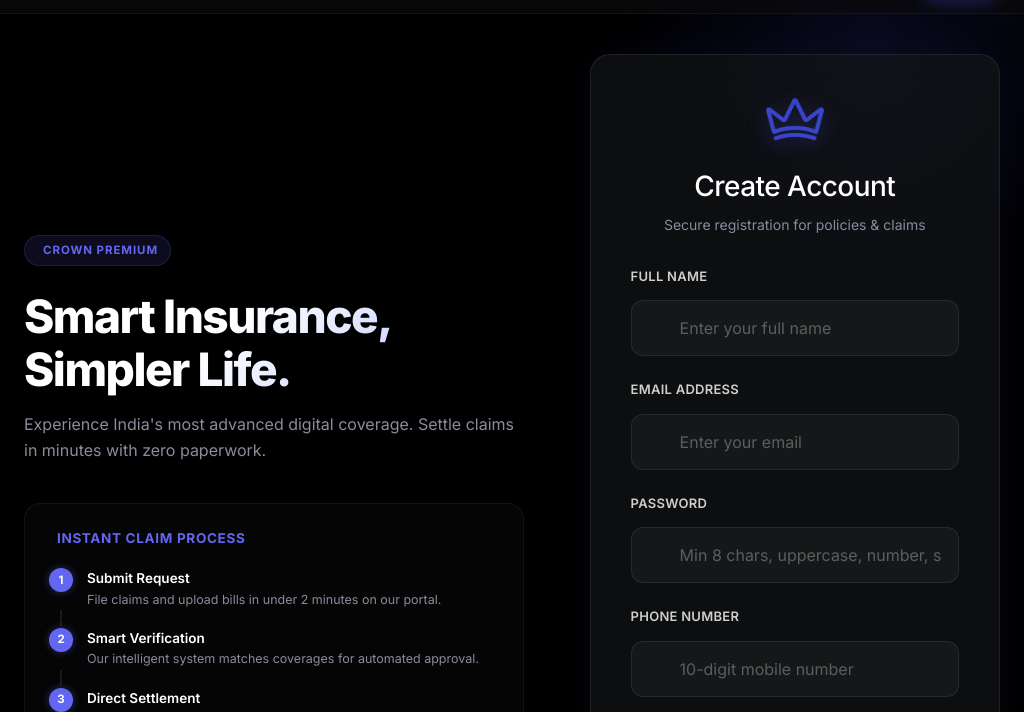
Test: Register Page › shows email validation error
The image size is (1024, 712).
Type "Test User" into the field with placeholder "Enter your full name" at [795, 328], box top-left (631, 300), bottom-right (959, 356)
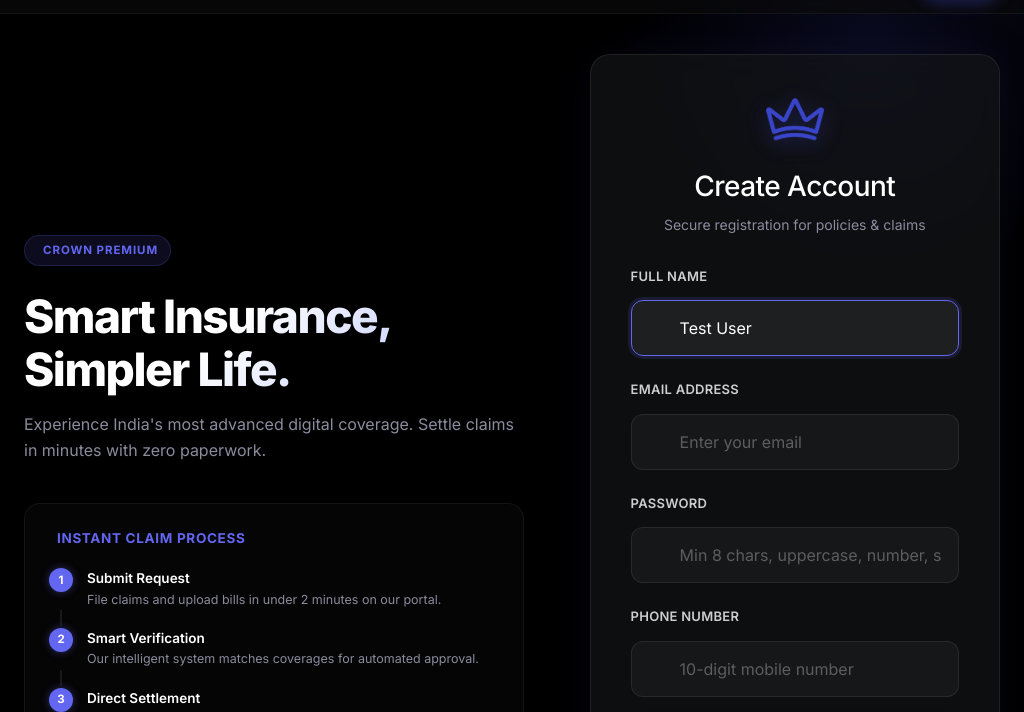
Type "bademail" into the field with placeholder "Enter your email" at [795, 442], box top-left (631, 414), bottom-right (959, 470)
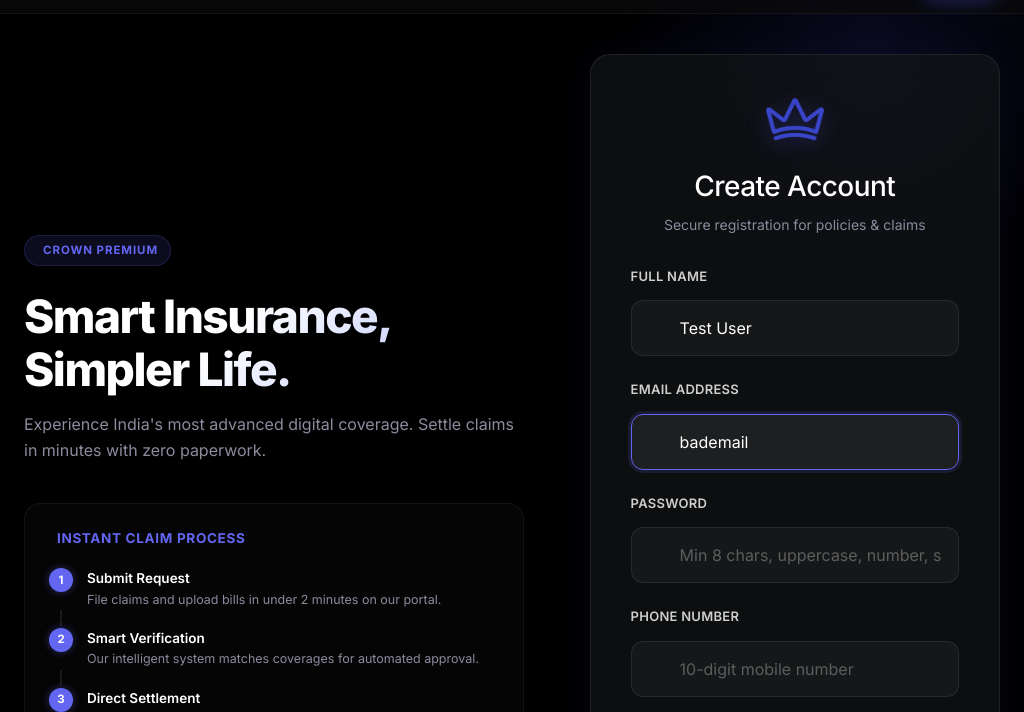
Type "ValidPass@123" into the password field with placeholder "Min 8 chars, uppercase, number, special char" at [795, 555], box top-left (631, 527), bottom-right (959, 583)
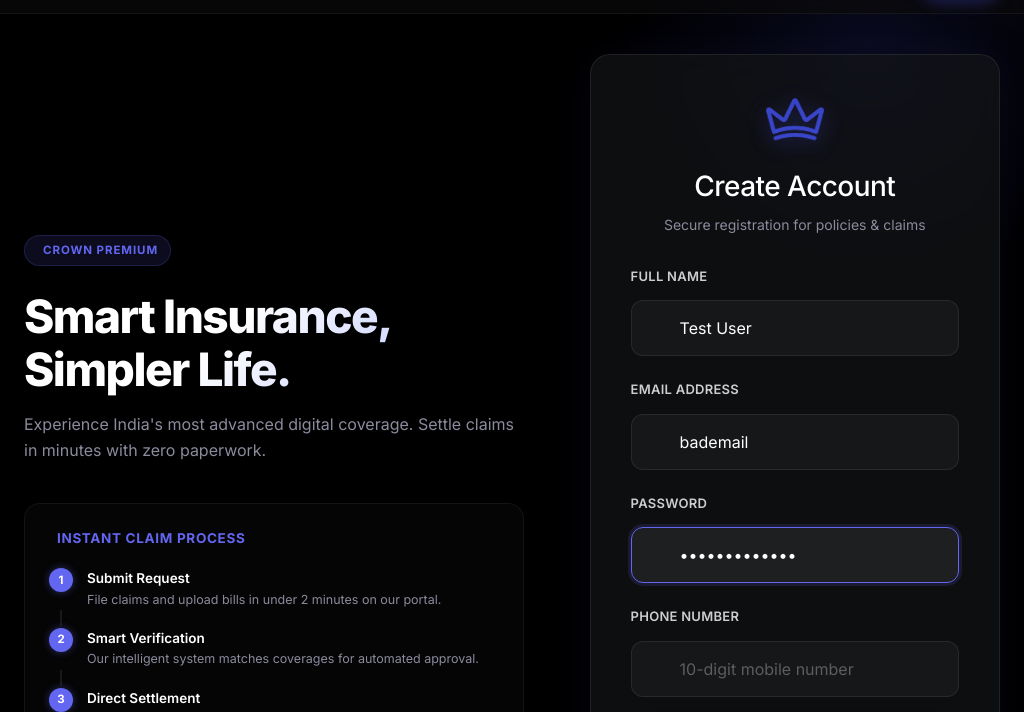
Type "9876543210" into the field with placeholder "10-digit mobile number" at [795, 669], box top-left (631, 641), bottom-right (959, 697)
(page scrolled)
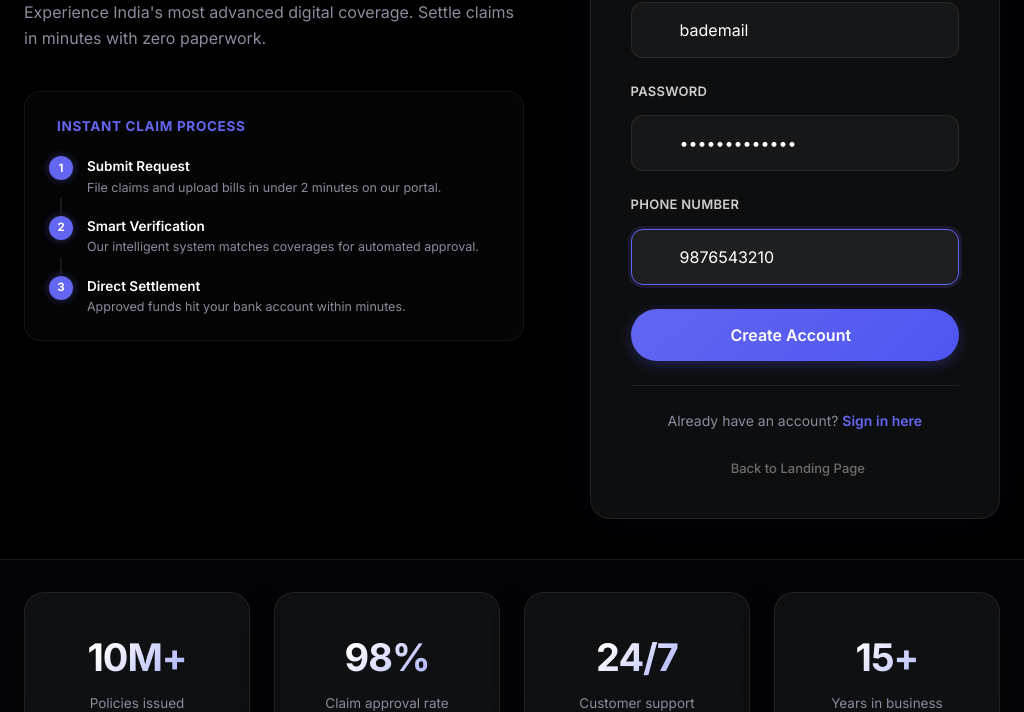
Click the button "Create Account" at [795, 335], box top-left (631, 309), bottom-right (959, 361)
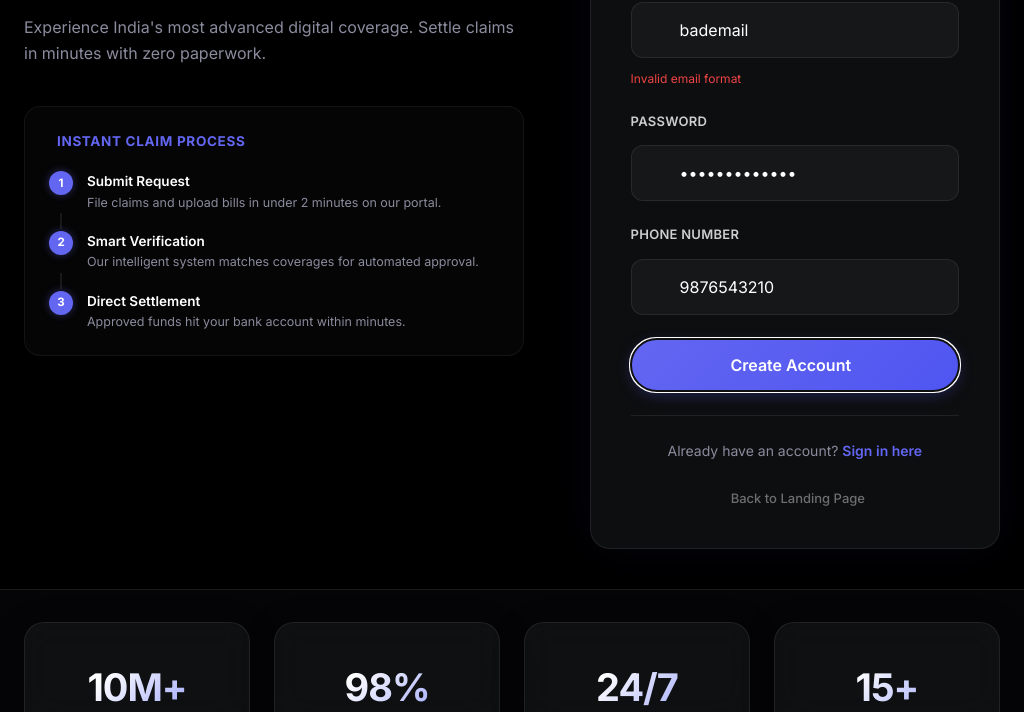
expect the text "Invalid email format" is shown: met, box top-left (631, 71), bottom-right (741, 86)
